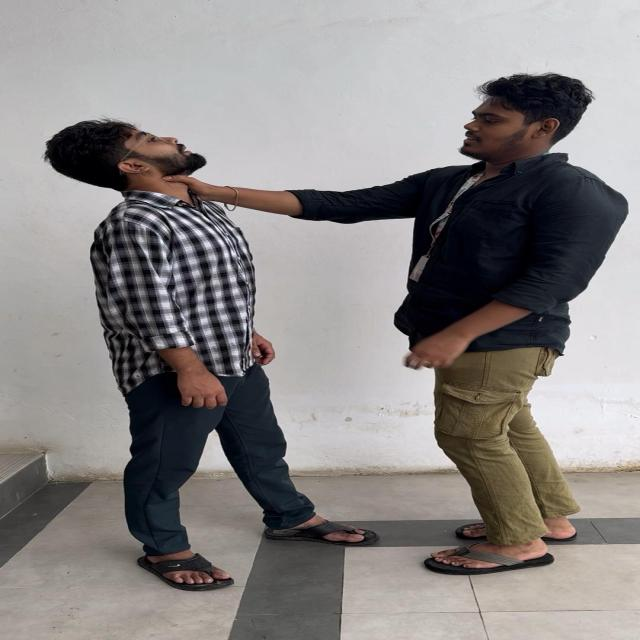fight: (26, 59, 640, 595)
